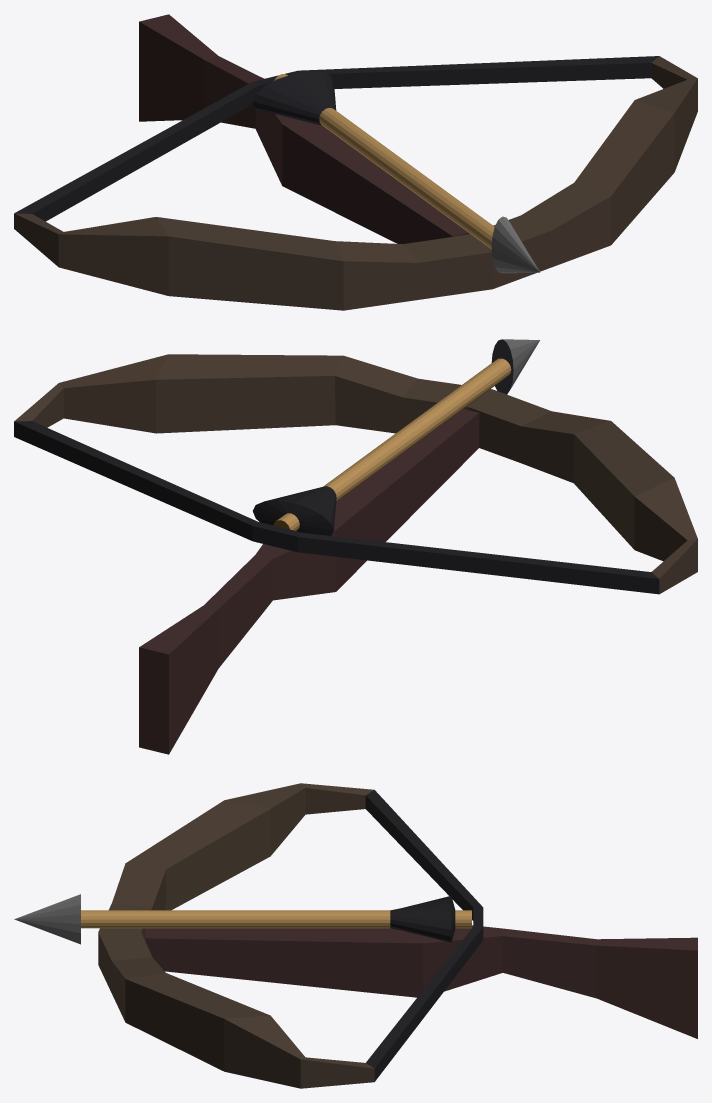
The model's file is Crossbow.fbx.
The picture shows the model from 3 angles, top to bottom: view 1: azimuth 30°, elevation 25°; view 2: azimuth 150°, elevation 25°; view 3: azimuth 270°, elevation 25°; orthographic projection. The views are drawn at different scales.
Visible parts, largest first — view 1: Crossbow, Arrow; view 2: Crossbow, Arrow; view 3: Crossbow, Arrow.
Part boxes in pixels (x1,y1,x2,y2): Crossbow: [14, 14, 697, 310]; Arrow: [252, 71, 539, 273]; Crossbow: [14, 354, 697, 754]; Arrow: [253, 339, 539, 535]; Crossbow: [98, 783, 697, 1088]; Arrow: [14, 894, 471, 944].
Bounding box in the file's own units: 0.6997 × 0.1624 × 0.7254.
